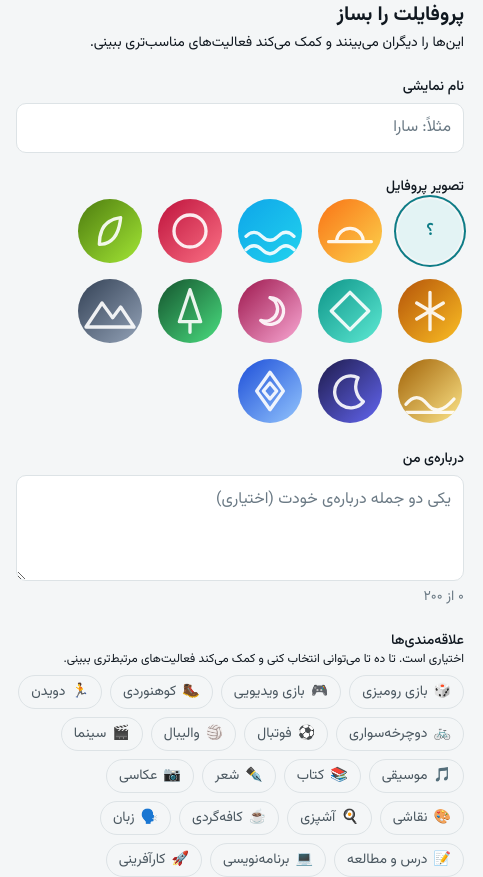
profile setup — US-02 › CR-02 — a name alone completes setup
This screenshot has width=483, height=877.
Type "محمد علی" into the field with test id "profile-setup-name" at [240, 128], box [16,103,464,153]
(page scrolled)
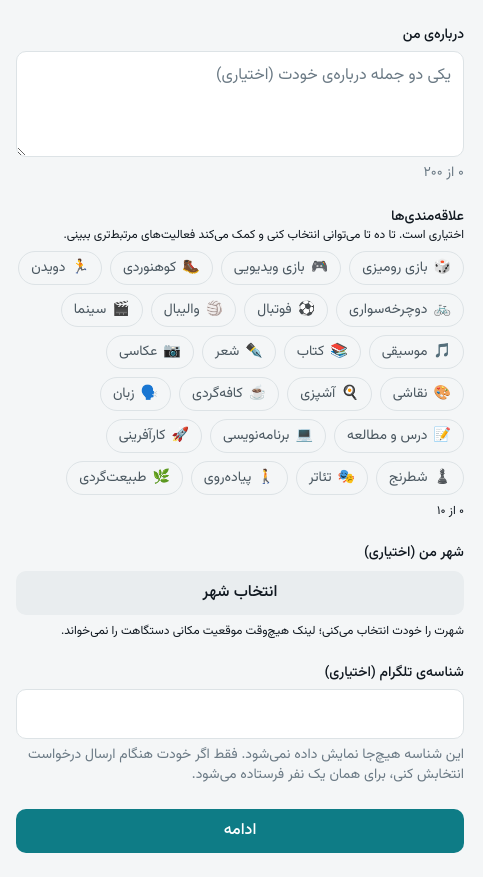
Click the button with test id "profile-setup-submit" at [240, 831], box [16,809,464,853]
(page scrolled)
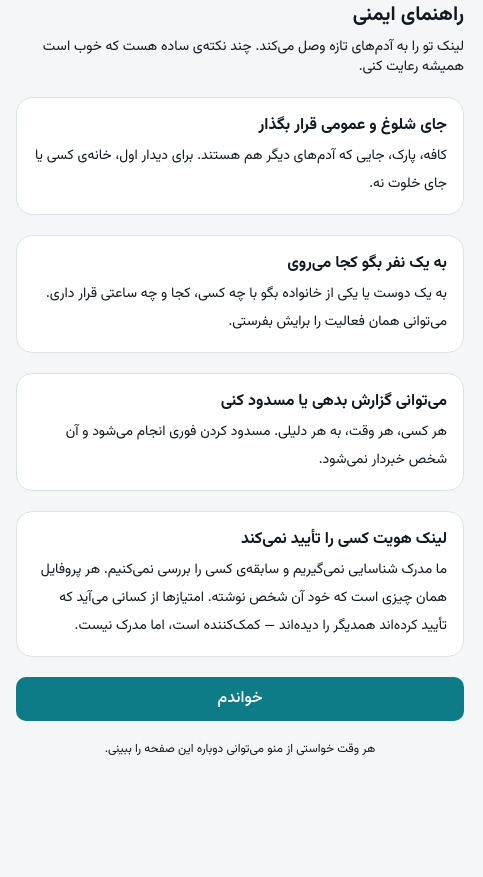
Expected: the button with test id "safety-guidance-acknowledge" is shown, [16,677,464,721]
